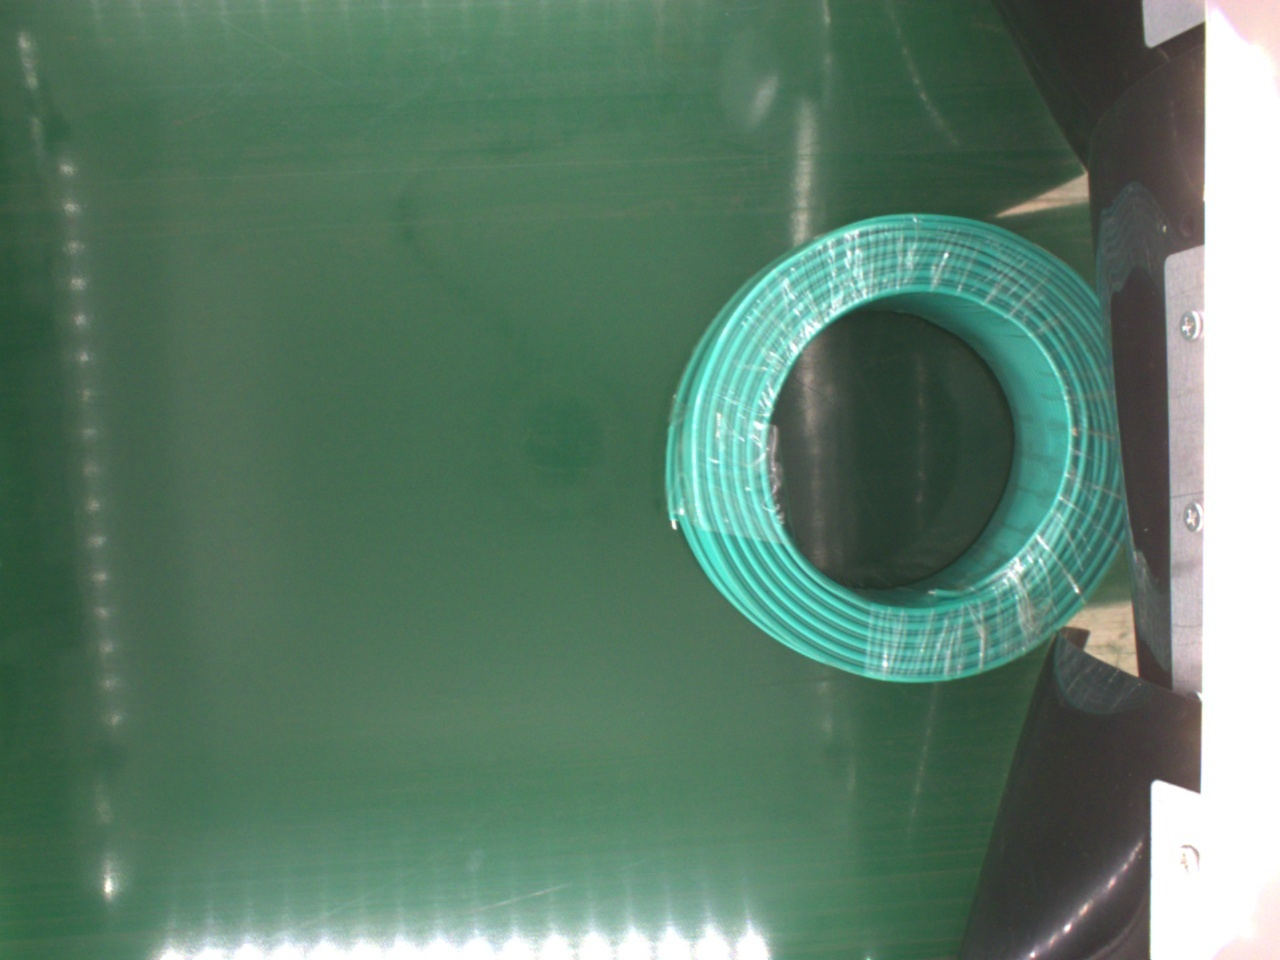green: (668, 208, 1123, 681)
